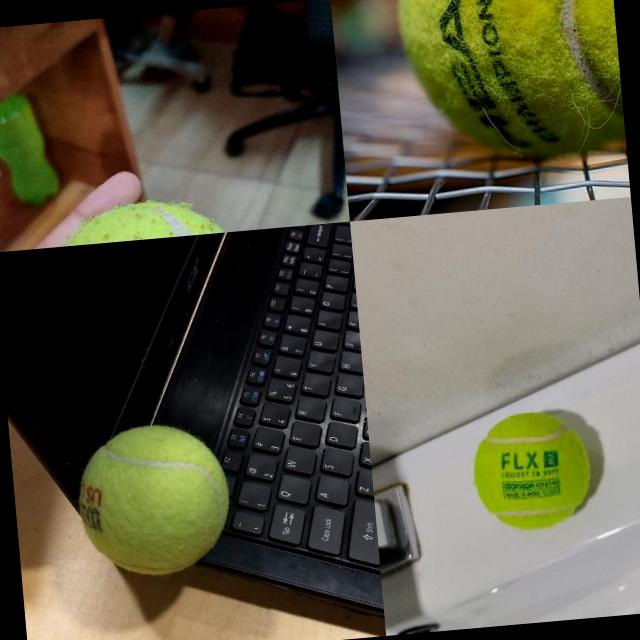Tennis Ball: (394, 0, 625, 167), (70, 417, 238, 582), (466, 405, 596, 537)
